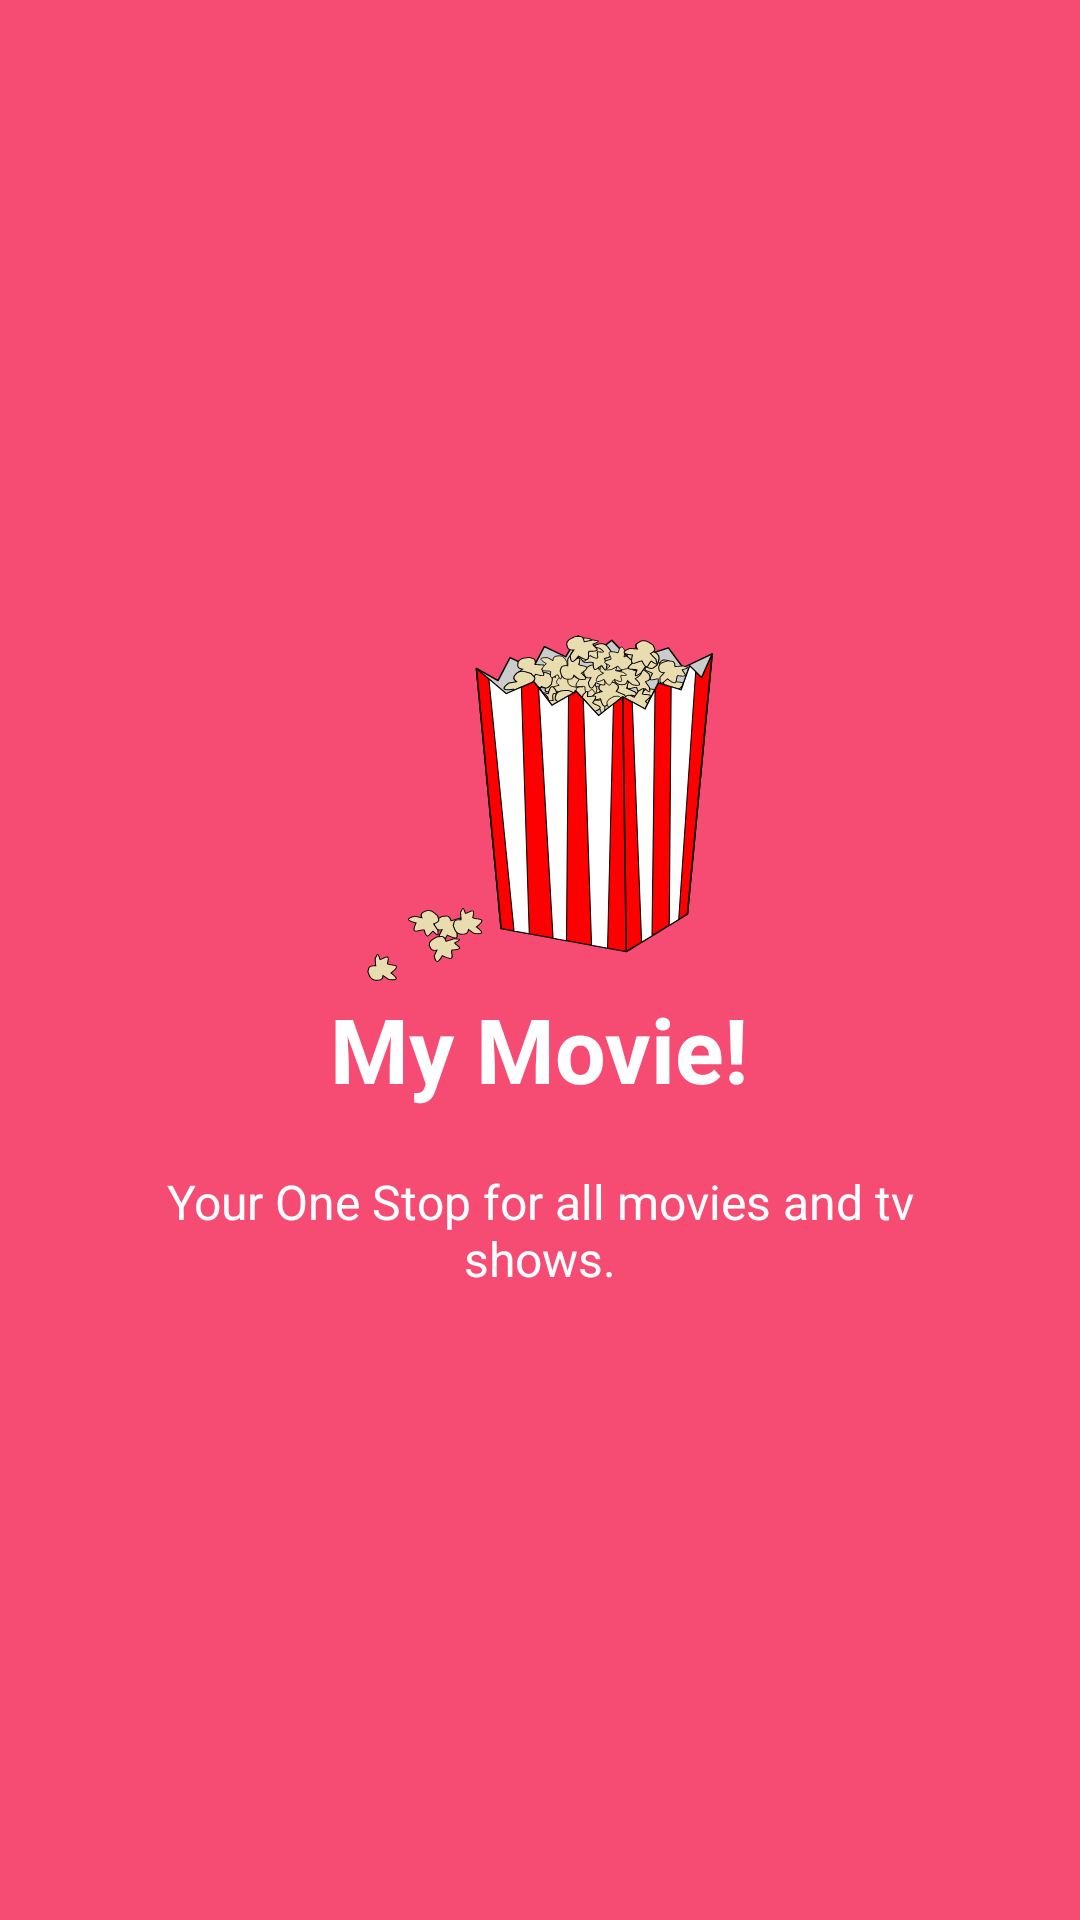

Icons on this 1080*1920 Android screen, each with the point to tap as point (x, y):
popcorn: point (540, 808)
